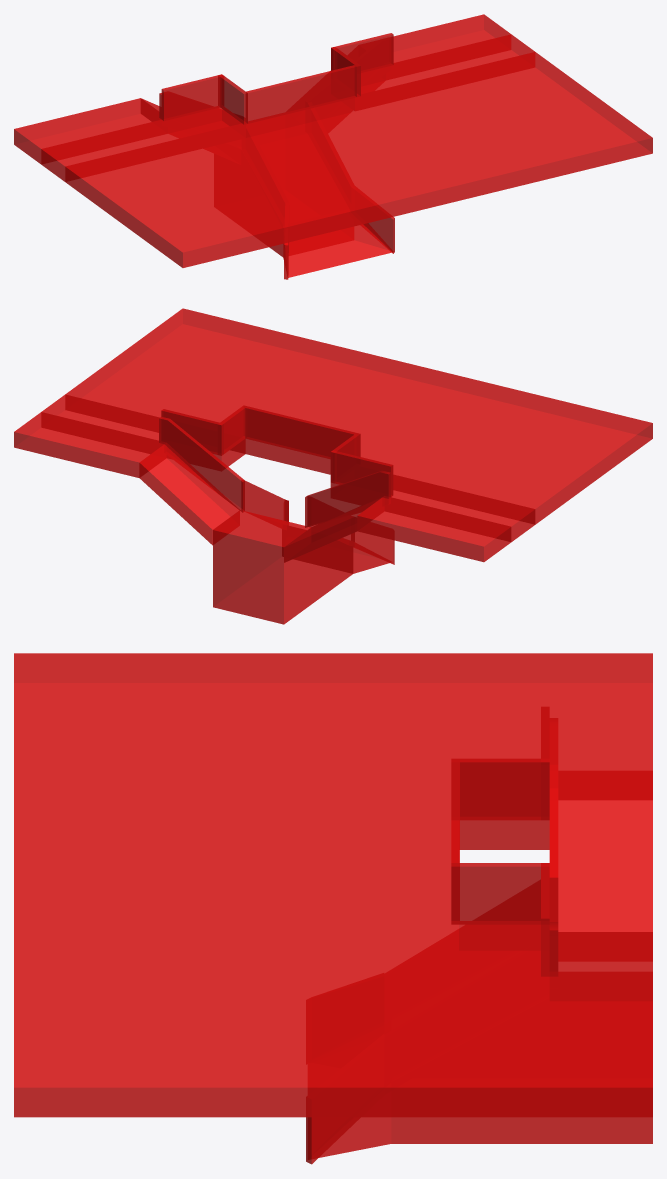
Rendered from SM_Bld_State_Building_01_Interior_Collision.fbx.
The picture shows the model from 3 angles, top to bottom: view 1: azimuth 30°, elevation 25°; view 2: azimuth 150°, elevation 25°; view 3: azimuth 270°, elevation 25°; orthographic projection. The views are drawn at different scales.
Parts seen in each view (by area): view 1: SM_Bld_State_Building_01_Interior_Collision; view 2: SM_Bld_State_Building_01_Interior_Collision; view 3: SM_Bld_State_Building_01_Interior_Collision.
Boxes of the visible parts, <box> form: SM_Bld_State_Building_01_Interior_Collision: <box>14,14,652,279</box>; SM_Bld_State_Building_01_Interior_Collision: <box>14,308,652,624</box>; SM_Bld_State_Building_01_Interior_Collision: <box>14,653,652,1164</box>.
Bounding box in the file's own units: 1554 × 502 × 967.
